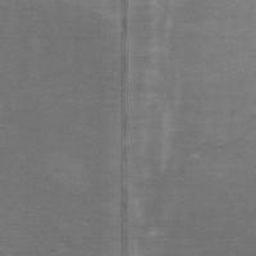Welding line: (118, 0, 136, 256)
